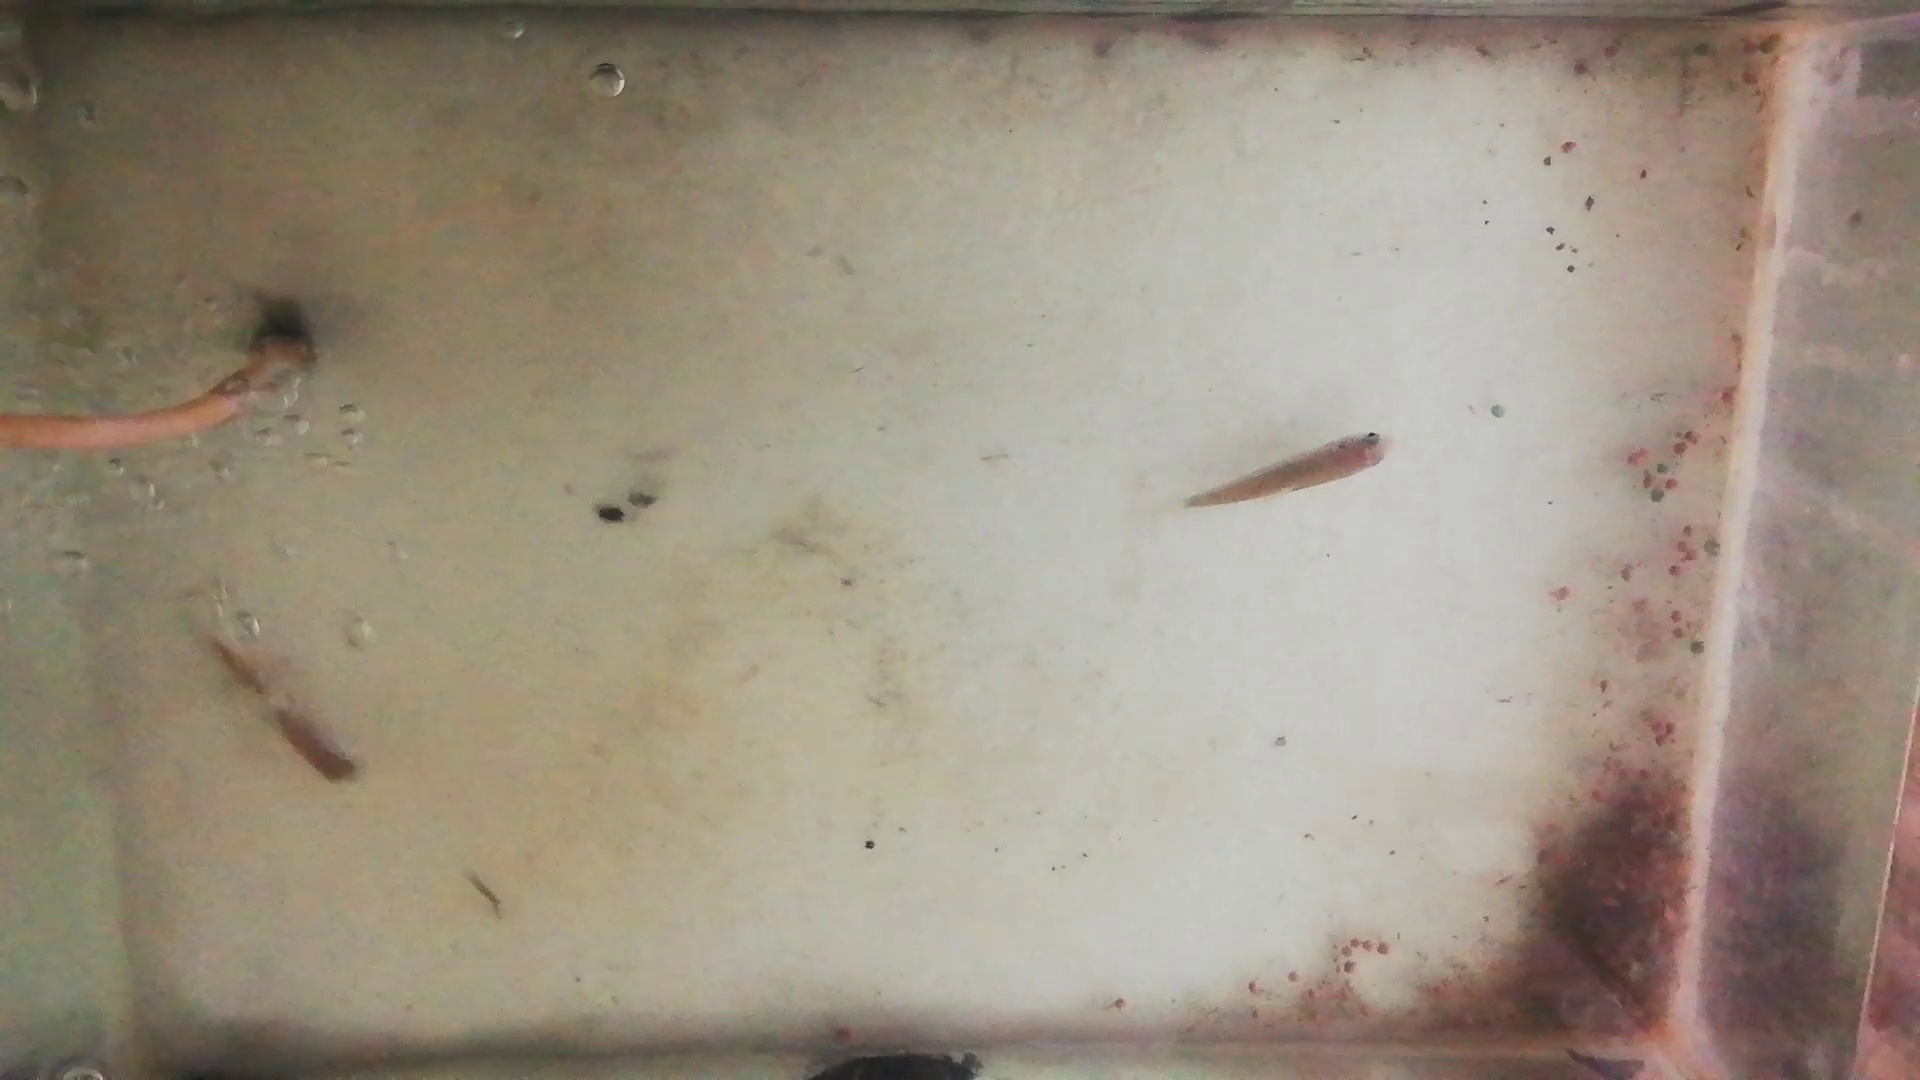fish: (204, 624, 357, 787), (1187, 429, 1390, 505)
